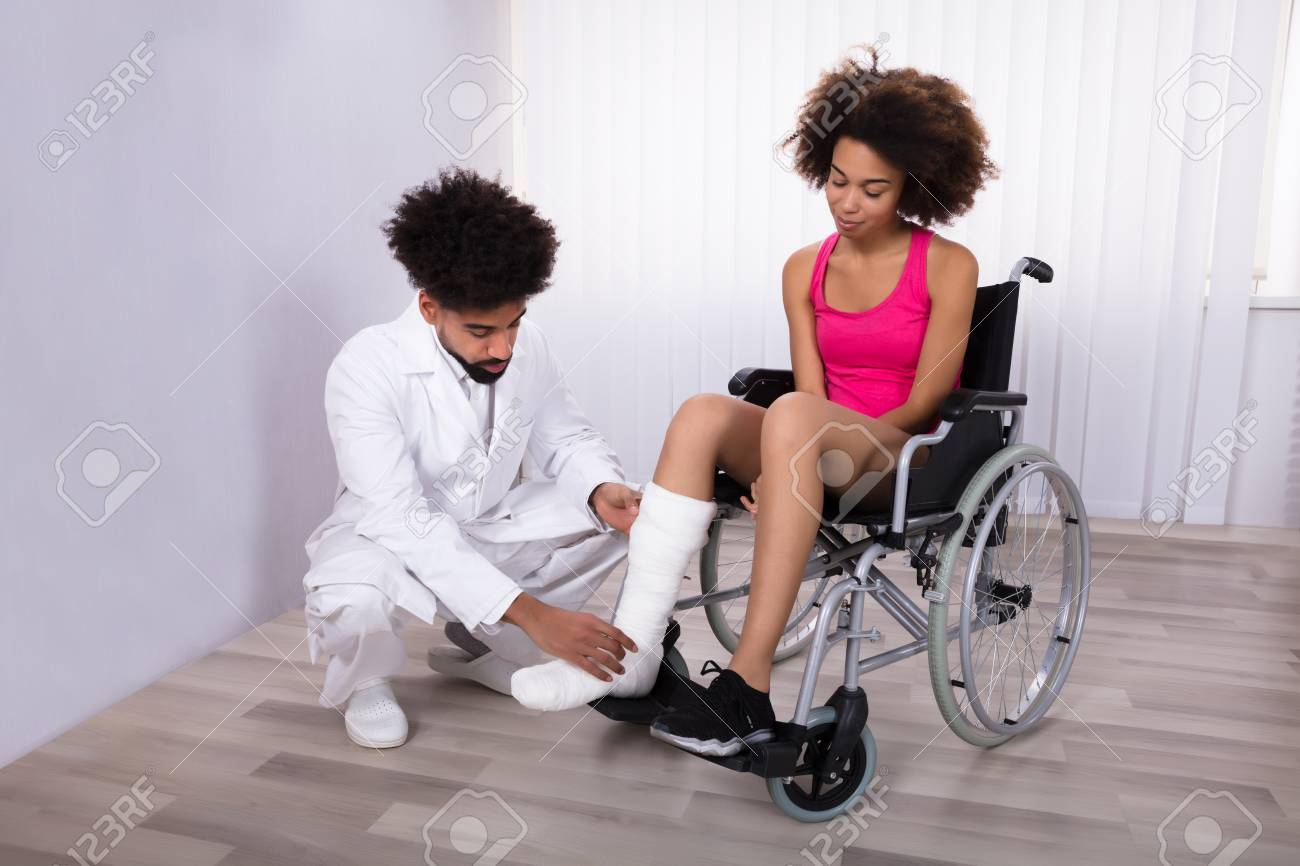wheelchair: (511, 62, 1092, 821)
